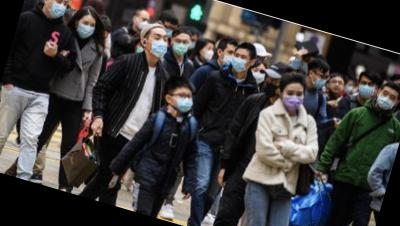with_mask: (144, 30, 172, 59), (279, 85, 306, 112), (169, 88, 196, 114), (259, 76, 283, 100), (376, 88, 399, 113), (230, 51, 252, 74), (356, 77, 378, 100), (76, 17, 97, 40), (171, 34, 191, 57), (310, 69, 330, 91), (249, 65, 268, 85), (160, 21, 178, 39), (221, 46, 237, 66), (135, 14, 151, 31), (201, 44, 216, 60), (343, 82, 355, 96)
without_mask: (328, 77, 346, 94)
